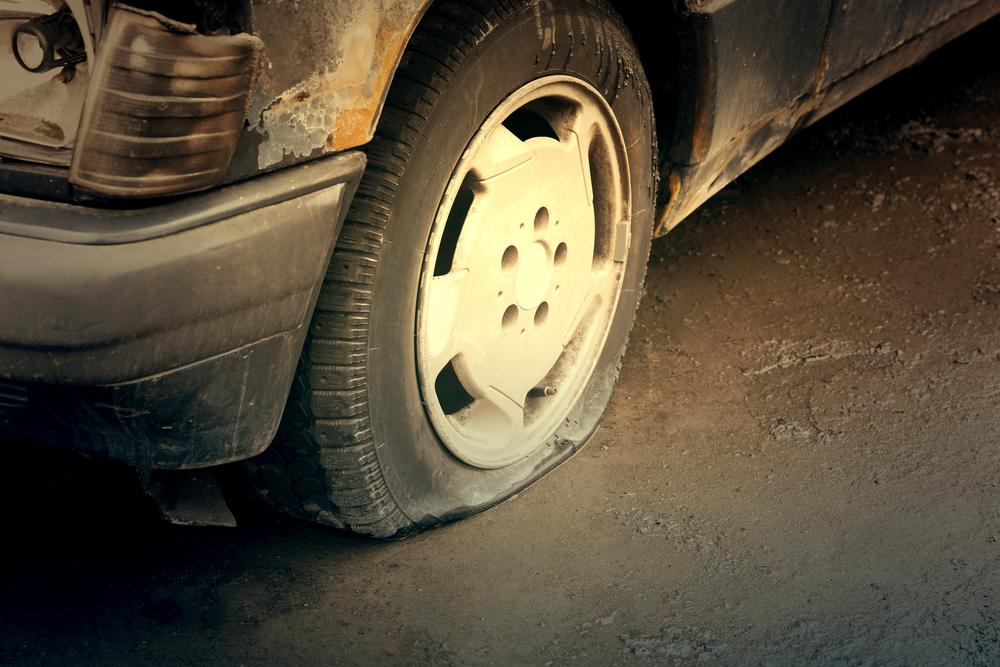tire flat: (255, 0, 655, 540)
